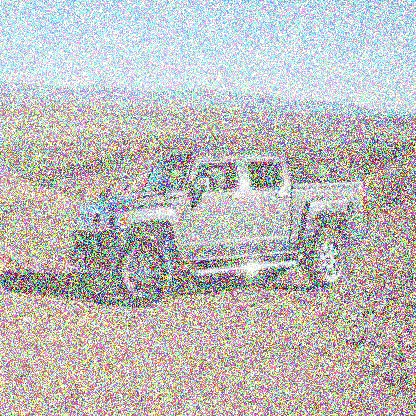Vehicle: (70, 149, 369, 307)
